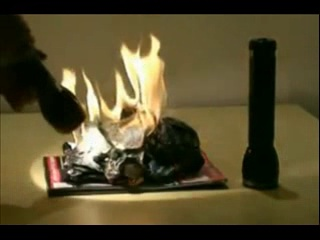fire: (118, 32, 170, 151), (60, 66, 118, 159)
